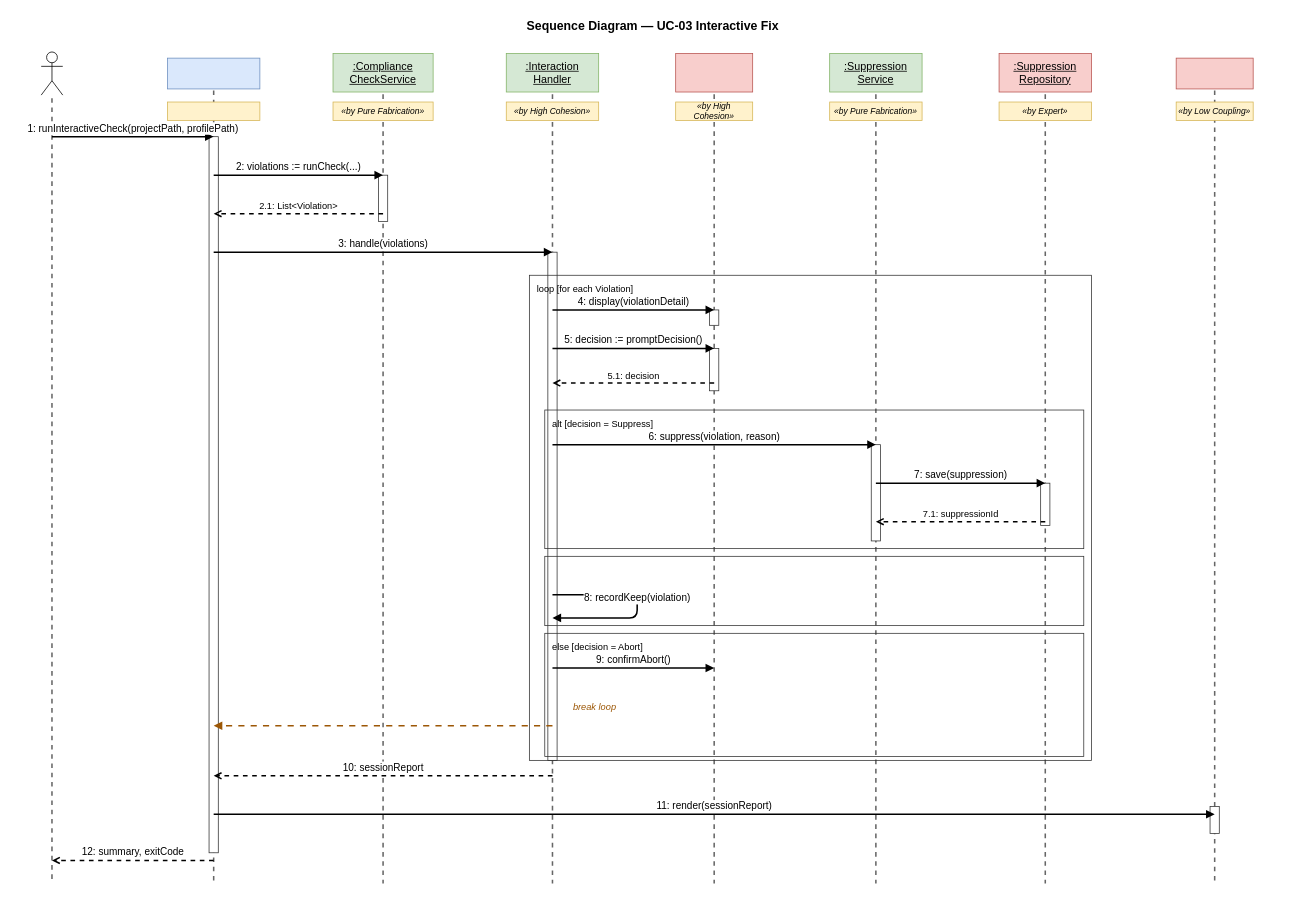
This 1304x898 diagram has some shape labels left out. The shapes that lost their labels are listed below. From the top down, each one's centre as x and y in pixels, then its label:
[51,73]: Developer
[213,73]: :CheckCommand
[714,72]: :Console Input
[1214,73]: :Reporter
[213,111]: «by Controller»
[814,591]: else [decision = Keep]
